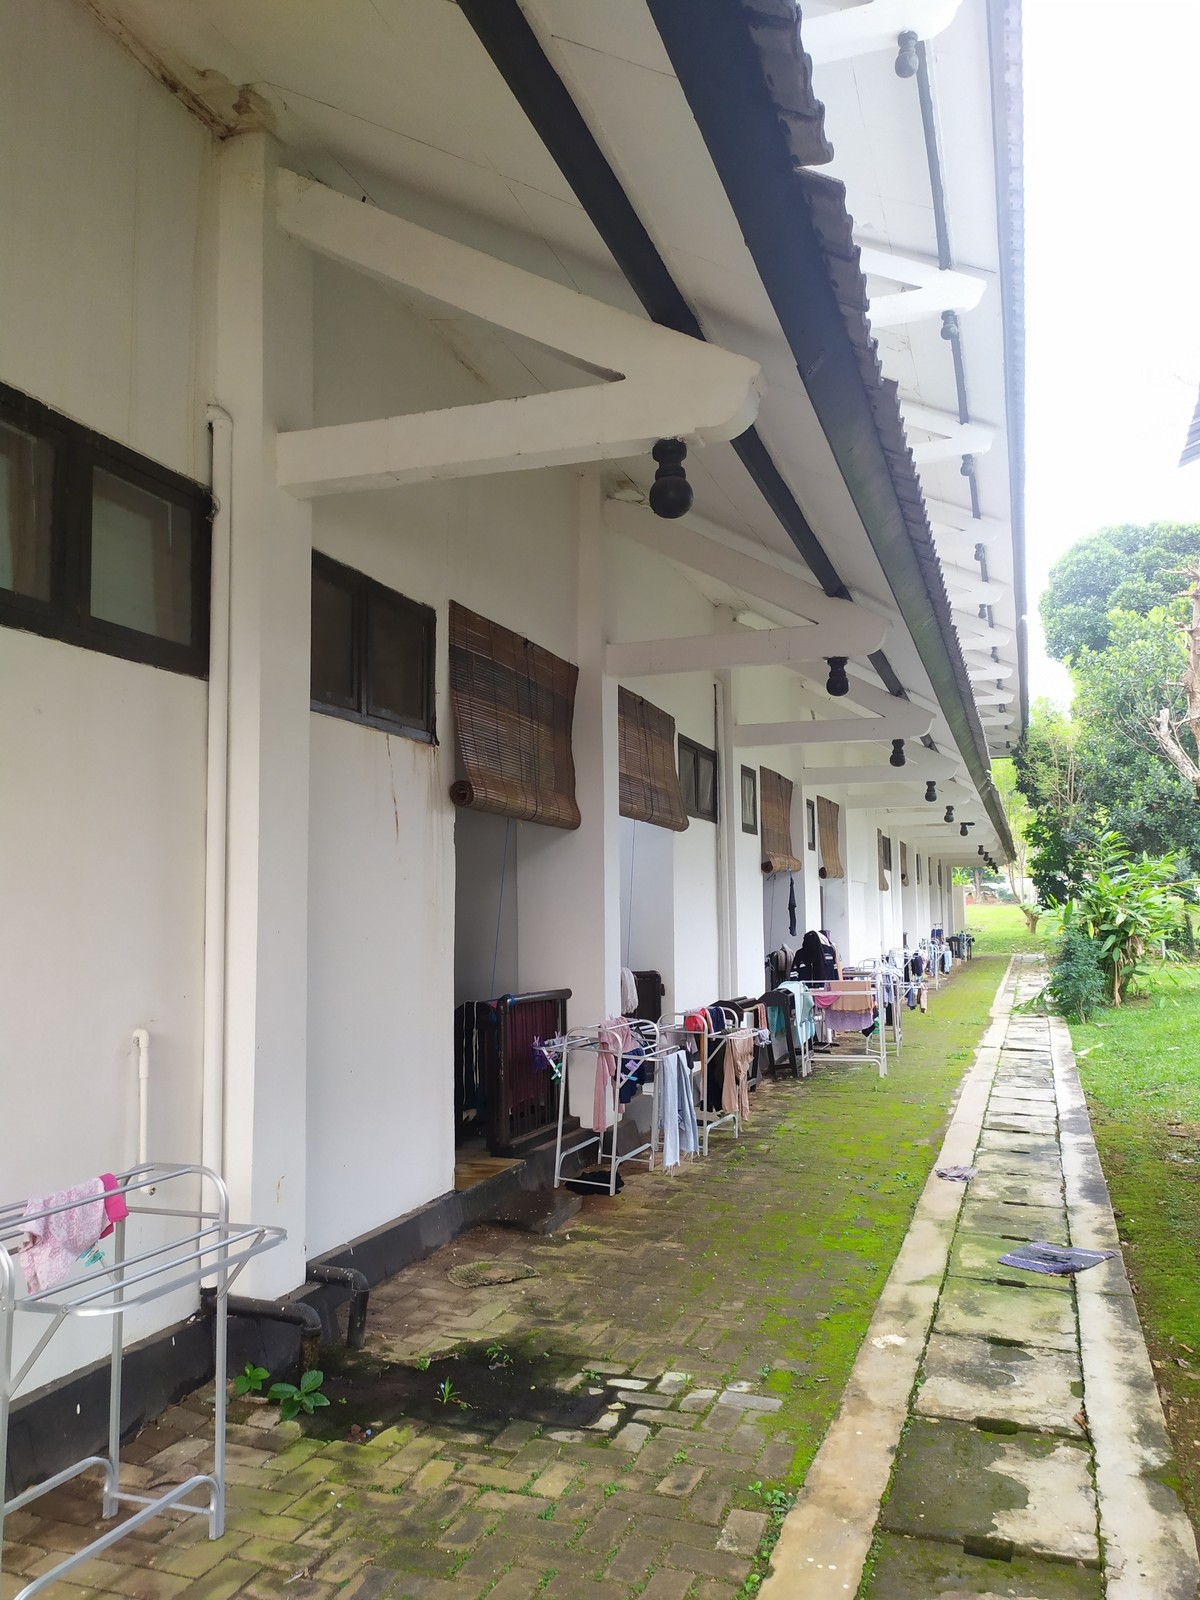concrete beam: (248, 386, 663, 510), (597, 614, 848, 689)
concrete column: (195, 120, 337, 1330), (553, 443, 637, 1125), (703, 598, 756, 1010)
